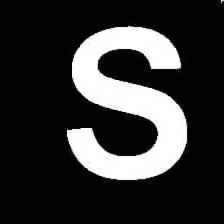LTR_S: (63, 16, 199, 185)
